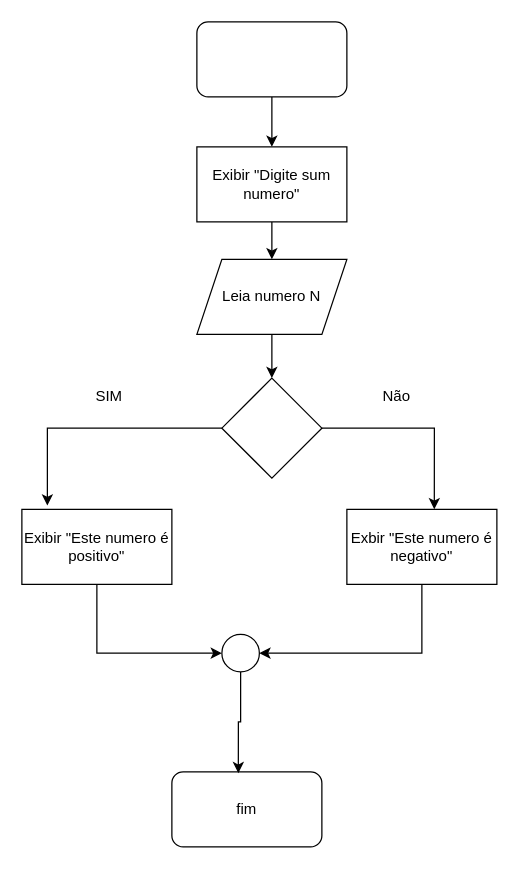
Some shapes in this 519 by 869 pixel diagram are drawn without their labels. Each missing label, with the centre of its shape:
"inicio" goes at (x=271, y=59).
"N > 0" goes at (x=271, y=427).
